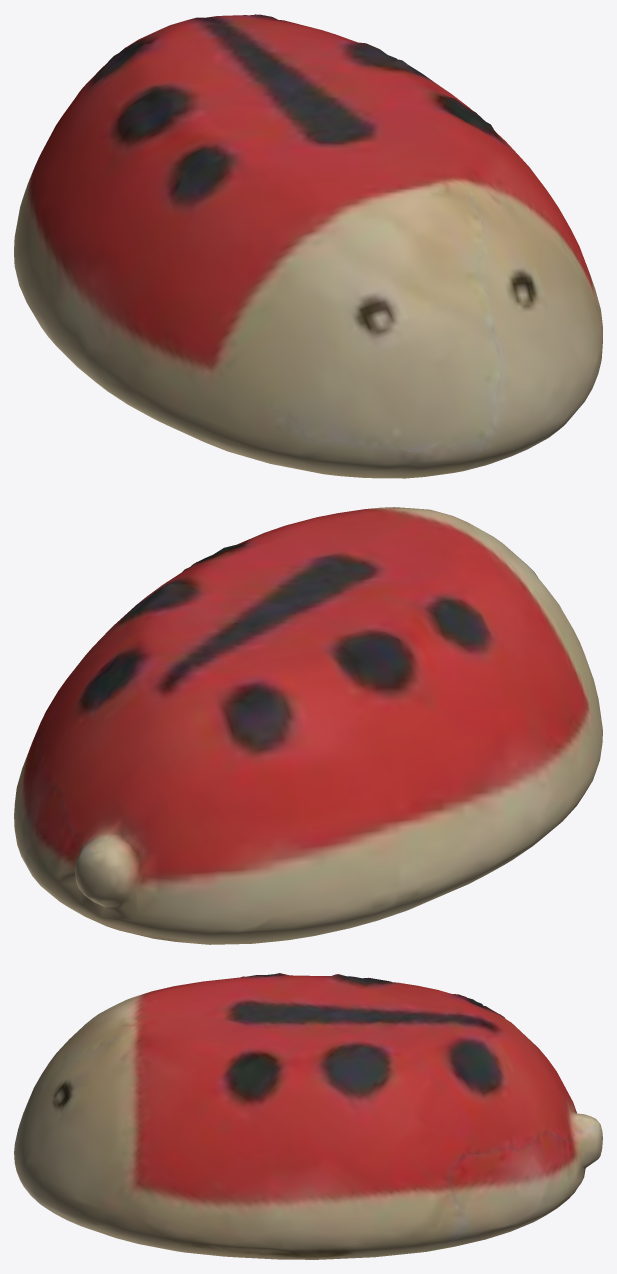
File: LADYBUG_BEAD-high.glb
3 views of the same model, one above another, from view 1: azimuth 30°, elevation 25°; view 2: azimuth 150°, elevation 25°; view 3: azimuth 270°, elevation 25° (orthographic). The views are drawn at different scales.
Visible parts, largest first — view 1: LADYBUG_BEAD; view 2: LADYBUG_BEAD; view 3: LADYBUG_BEAD.
Part boxes in pixels (x1,y1,x2,y2): LADYBUG_BEAD: (14,14,602,478); LADYBUG_BEAD: (14,507,602,944); LADYBUG_BEAD: (14,973,602,1259).
Bounding box in the file's own units: 0.0571 × 0.0303 × 0.0842.
1 material, 1 textured.
